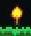torchT: (0, 1, 31, 36)
